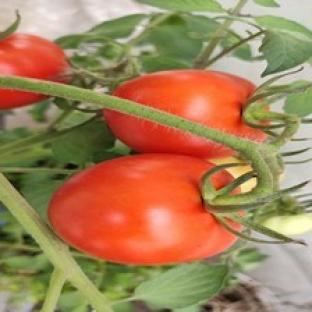Tomato: (49, 154, 236, 264), (113, 70, 266, 140), (0, 34, 69, 82), (262, 214, 311, 235), (209, 156, 252, 178)
